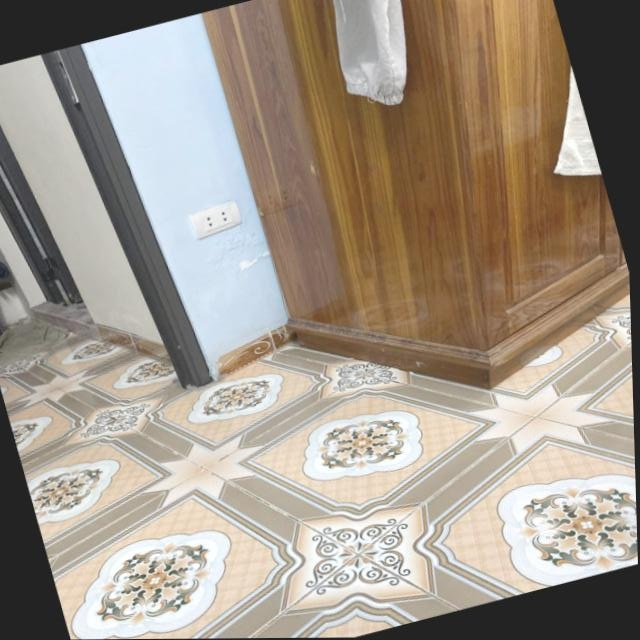outlet: (187, 201, 245, 242)
